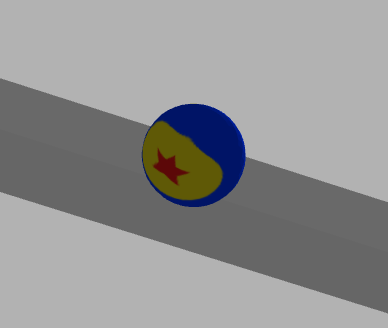toy story ball: (141, 103, 246, 208)
